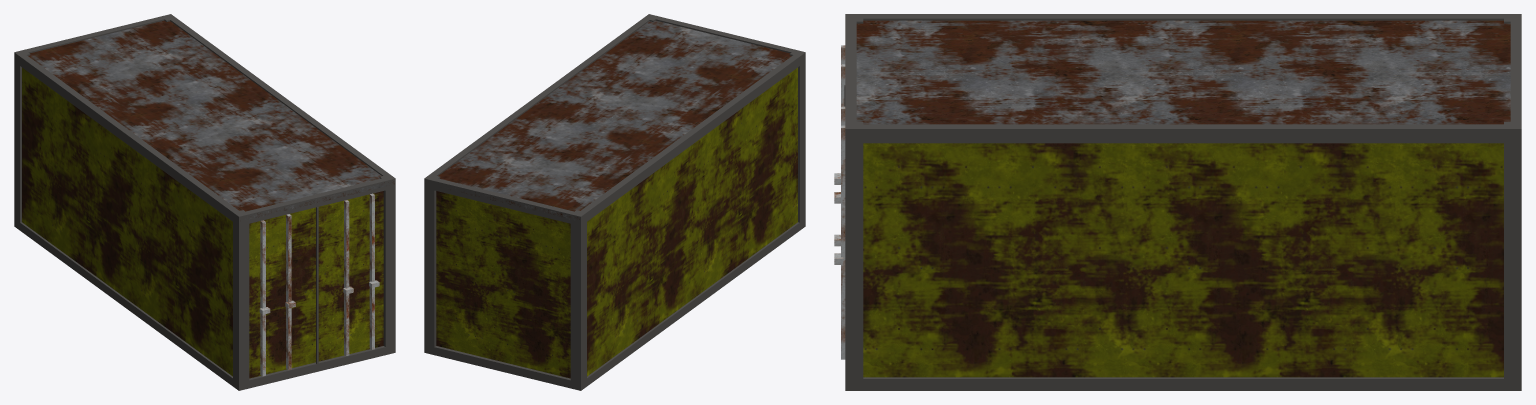
File: container_20_amarelo.glb
The picture shows the model from 3 angles, left to right: view 1: azimuth 30°, elevation 25°; view 2: azimuth 150°, elevation 25°; view 3: azimuth 270°, elevation 25°; orthographic projection. The views are drawn at different scales.
Parts seen in each view (by area): view 1: cont_amarelo; view 2: cont_amarelo; view 3: cont_amarelo.
Boxes of the visible parts, <box> form: cont_amarelo: <box>14,14,395,390</box>; cont_amarelo: <box>424,14,805,390</box>; cont_amarelo: <box>834,14,1521,390</box>.
Size of the model in its own units: 2.44 by 2.59 by 6.16.
Materials: 4 (3 with a texture image).
